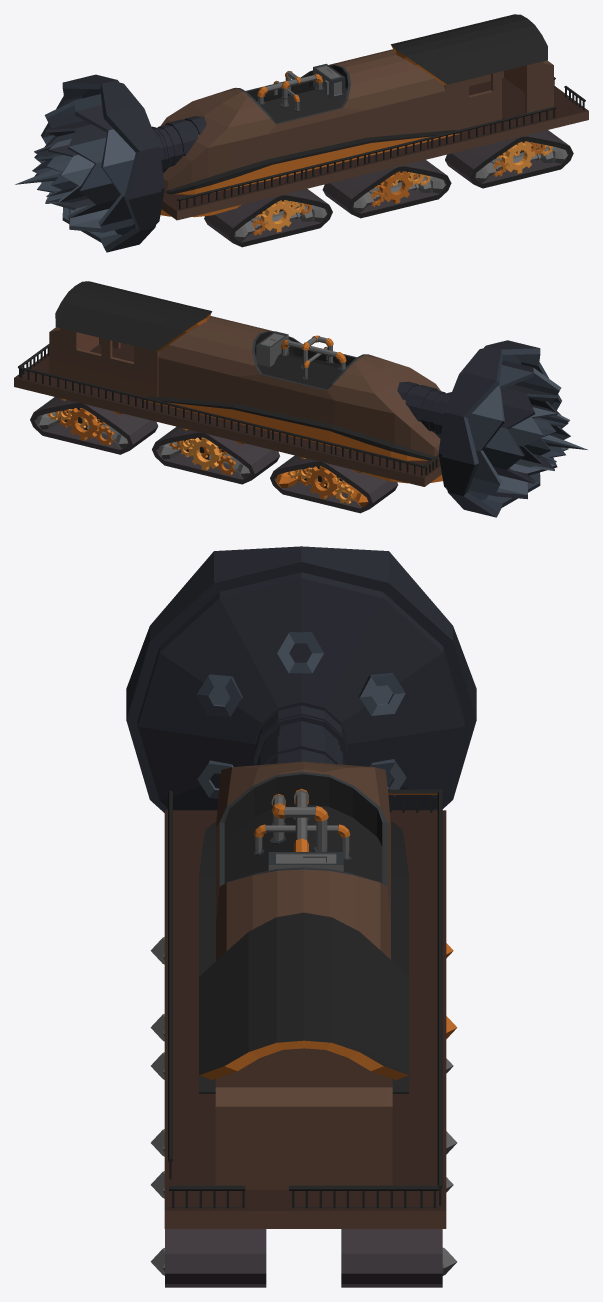
File: The_drill.fbx
3 renders of one model, top to bottom at view 1: azimuth 30°, elevation 25°; view 2: azimuth 150°, elevation 25°; view 3: azimuth 270°, elevation 25°, orthographic. The views are drawn at different scales.
Visible parts, largest first — view 1: Circle, Circle.001, Plane.001; view 2: Circle, Circle.001, Plane.001; view 3: Circle, Circle.001, Plane.001.
Boxes of the visible parts, x1,y1,x2,y2 form: Circle: [160, 49, 588, 247]; Circle.001: [15, 74, 206, 252]; Plane.001: [391, 14, 553, 130]; Circle: [14, 316, 442, 513]; Circle.001: [397, 340, 587, 517]; Plane.001: [49, 281, 212, 397]; Circle: [150, 761, 457, 1287]; Circle.001: [126, 546, 476, 812]; Plane.001: [199, 912, 409, 1189].
Size of the model in its own units: 3320 by 965 by 934.
